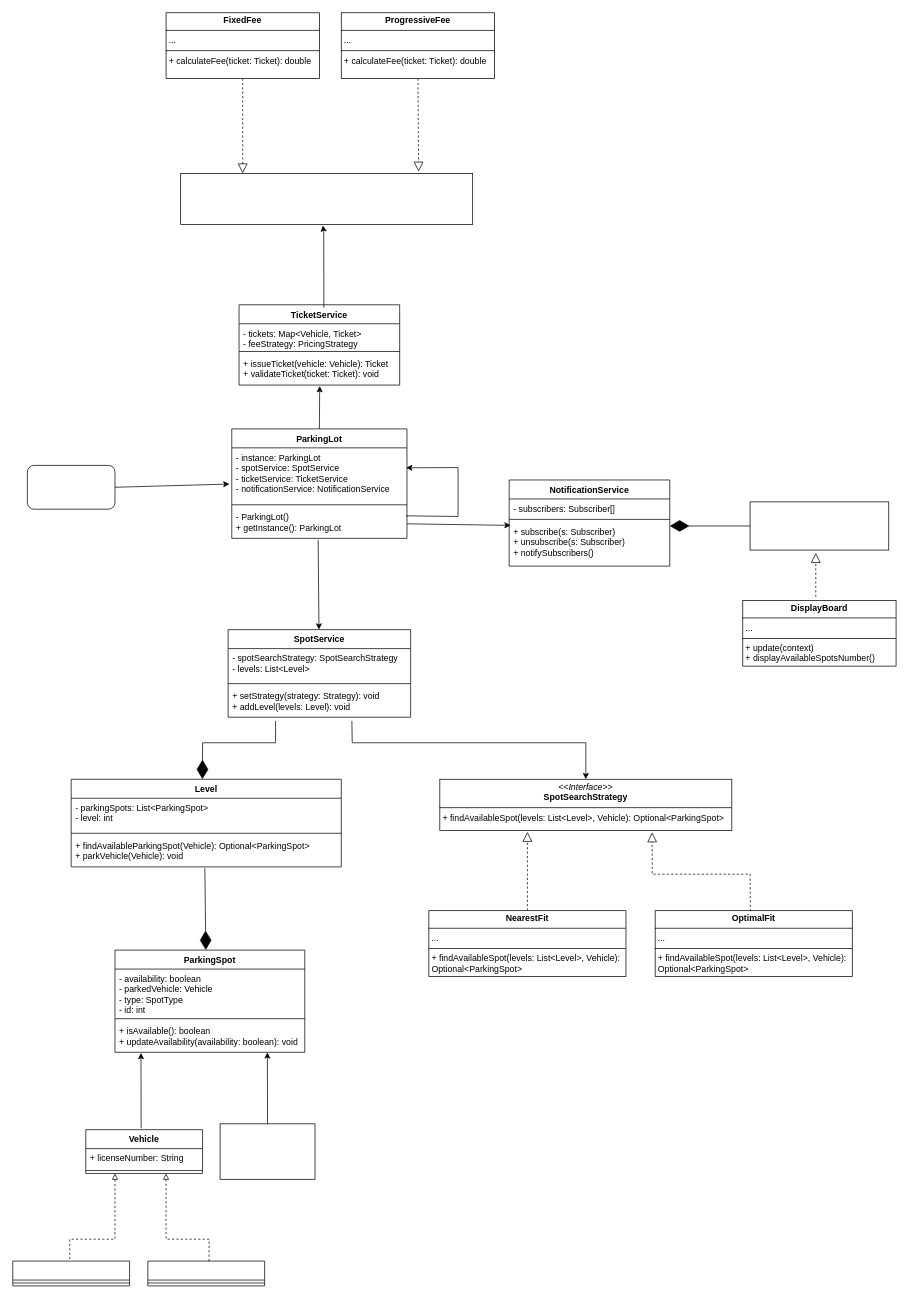
This 909x1299 diagram has some shape labels left out. Here are the shapes that lost their labels. From the top down, the centre of each, then its label:
At [326,198]: "<<Interface>> PricingStrategy + calculateFee(ticket: Ticket): double".
At [71,487]: "Client".
At [819,525]: "<<Interface>> Subscriber + update(context)".
At [267,1151]: "<<enumeration>> SpotType + COMPACT + LARGE".
At [71,1273]: "Car".
At [206,1273]: "Truck".
